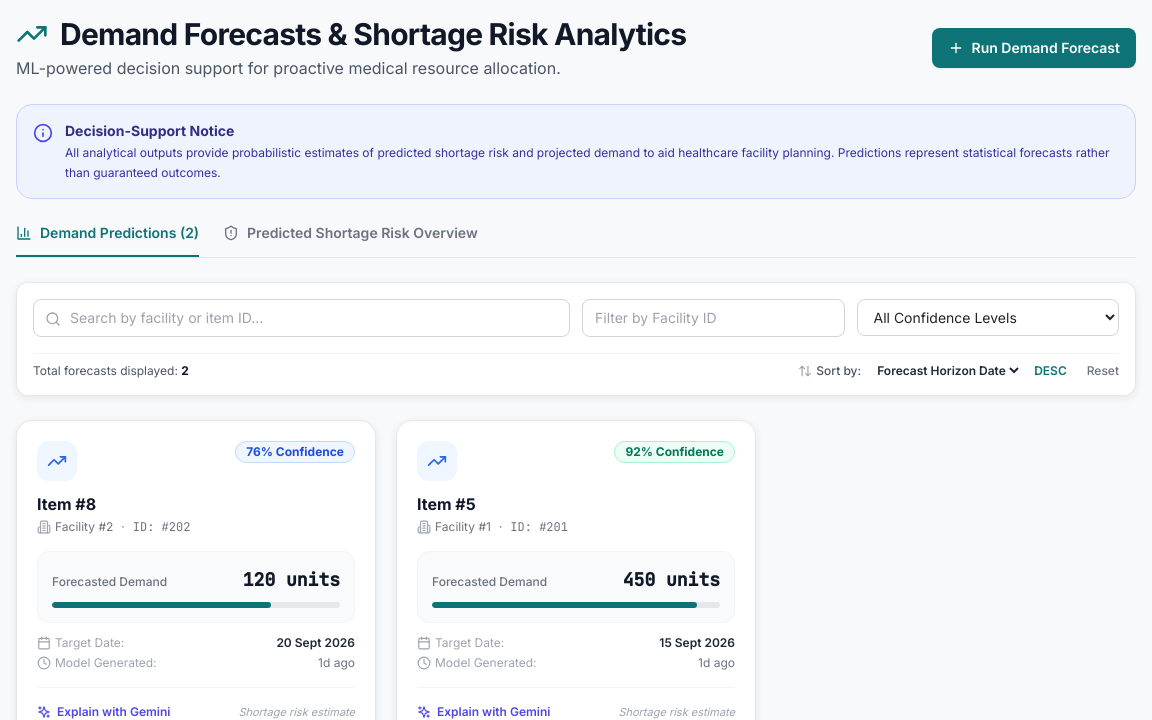
Test: PHASE 22 — Alerts & Predictions Module › Predictions Page (/predictions) › explains a prediction using Gemini AI
Click the button with test id "explain-prediction-201": (484, 712) [417,704,550,719]
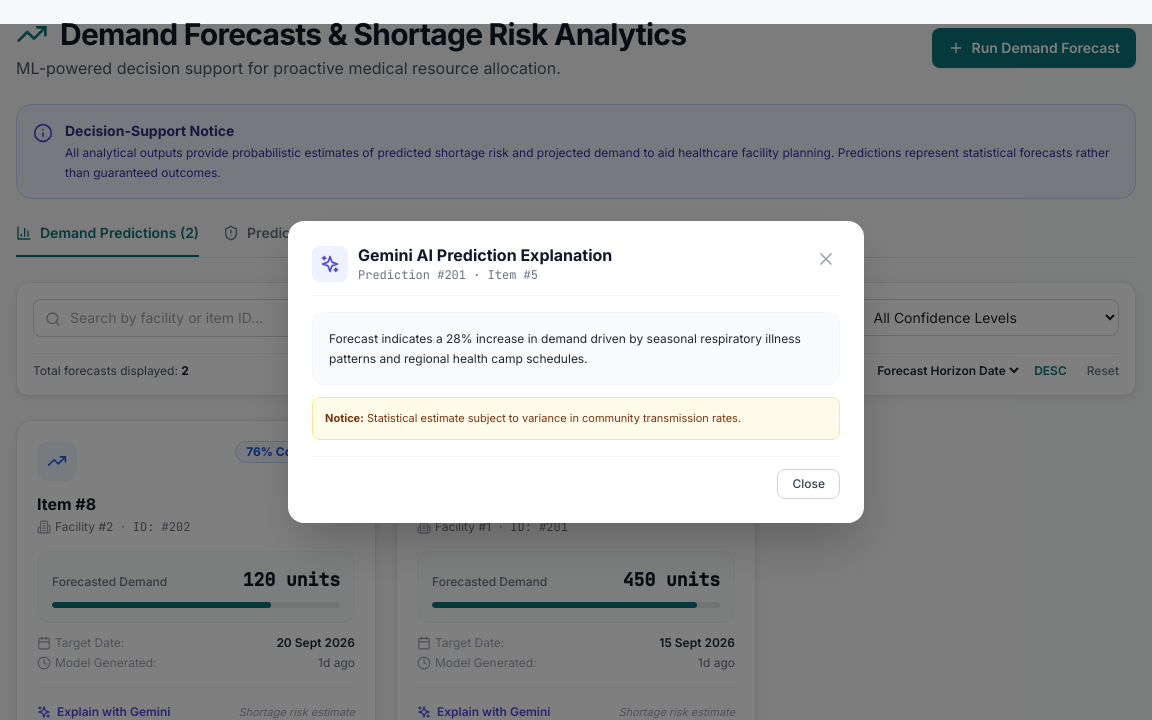
Expected: the element with test id "prediction-gemini-output" is shown, [312,312,840,440]
Expected: the text "Forecast indicates a 28% increase in demand" is shown, [329,331,801,366]
